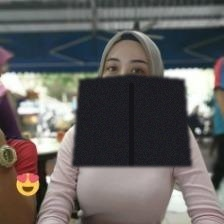Cadar_Niqab: (72, 28, 192, 166)
